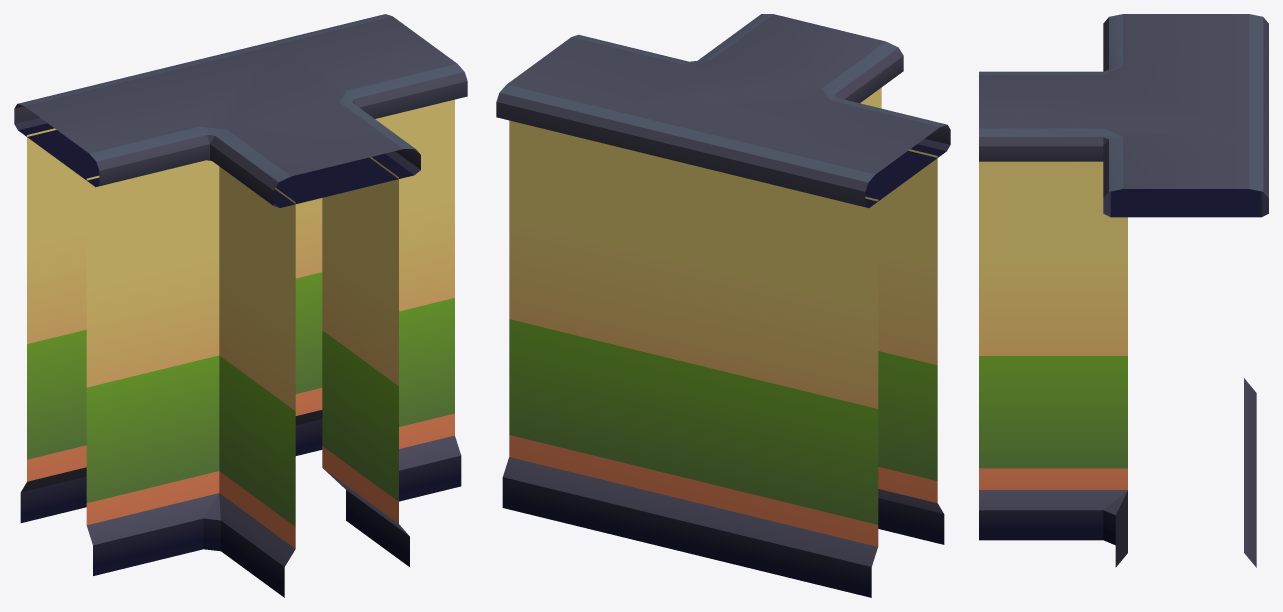
The model's file is wall_3point.fbx.
The picture shows the model from 3 angles, left to right: view 1: azimuth 30°, elevation 25°; view 2: azimuth 150°, elevation 25°; view 3: azimuth 270°, elevation 25°; orthographic projection. The views are drawn at different scales.
Visible parts, largest first — view 1: wall_3points; view 2: wall_3points; view 3: wall_3points.
Part boxes in pixels (box(x1,y1,x2,y2)): wall_3points: box(14, 14, 467, 597); wall_3points: box(496, 14, 950, 597); wall_3points: box(979, 14, 1268, 567).
Bounding box in the file's own units: 184 × 200 × 129.
